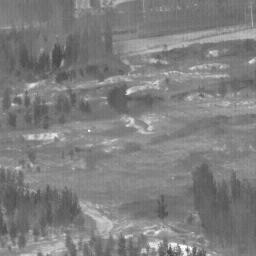aircraft: (88, 130, 90, 132)
